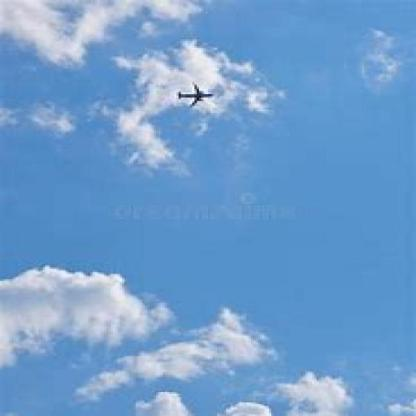plane: (176, 79, 218, 108)
